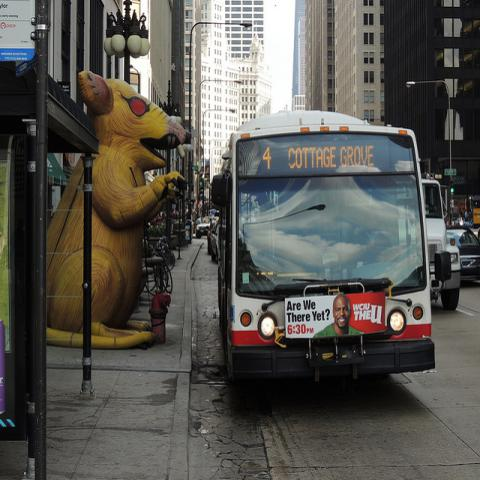bus: (209, 104, 435, 390)
car: (443, 228, 479, 286), (195, 216, 211, 239)
truck: (424, 177, 460, 311)
